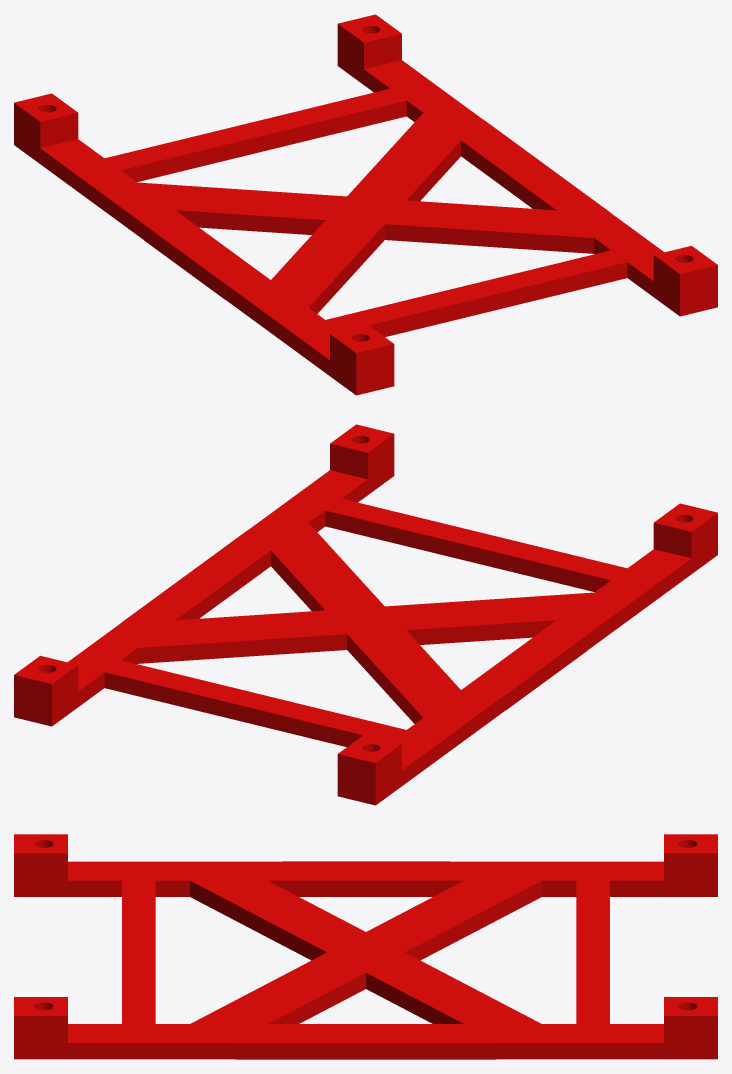
3 views of the same model, one above another, from view 1: azimuth 30°, elevation 25°; view 2: azimuth 150°, elevation 25°; view 3: azimuth 270°, elevation 25° (orthographic). The views are drawn at different scales.
Parts seen in each view (by area): view 1: tmp_export_Base; view 2: tmp_export_Base; view 3: tmp_export_Base.
Boxes of the visible parts, left/top/right/bottom form: tmp_export_Base: left=14, top=14, right=717, bottom=395; tmp_export_Base: left=14, top=424, right=717, bottom=805; tmp_export_Base: left=14, top=834, right=717, bottom=1059.
Bounding box in the file's own units: 0.0716 × 0.1172 × 0.008.
